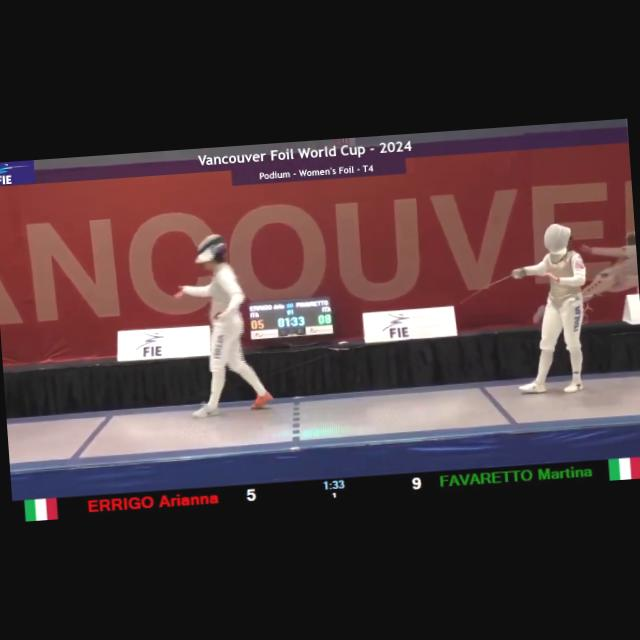blade: (454, 266, 524, 306)
